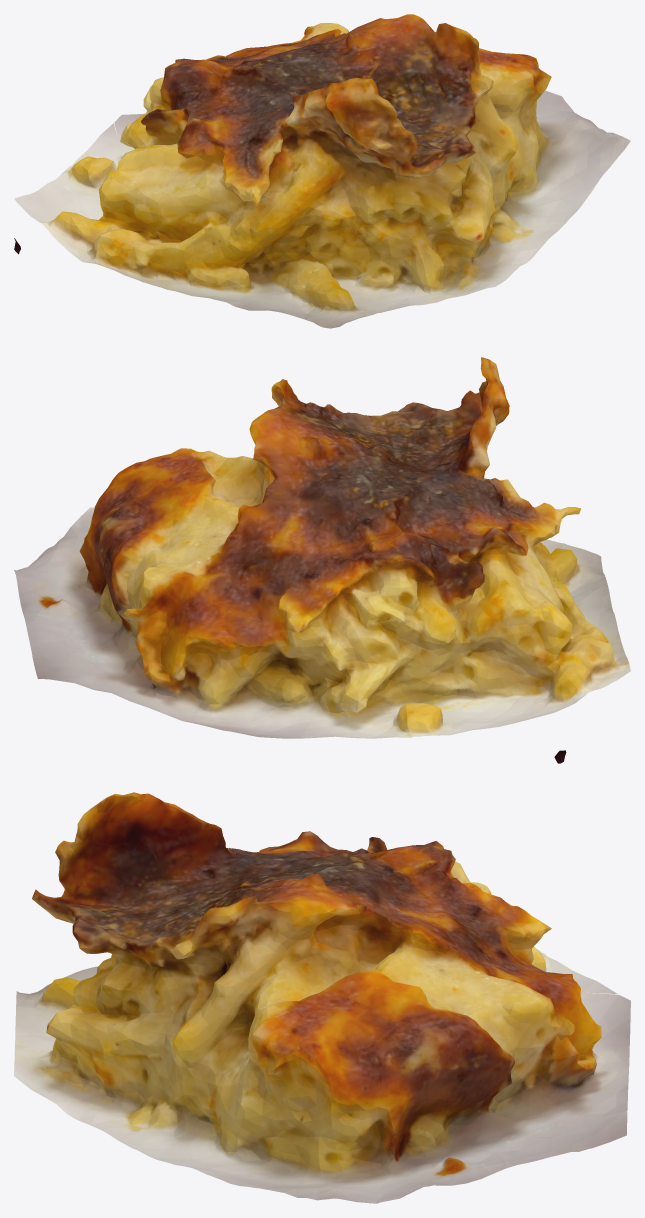
The model's file is firin-makarna.glb.
3 views of the same model, one above another, from view 1: azimuth 30°, elevation 25°; view 2: azimuth 150°, elevation 25°; view 3: azimuth 270°, elevation 25° (orthographic). The views are drawn at different scales.
Visible parts, largest first — view 1: __real_world_scale__; view 2: __real_world_scale__; view 3: __real_world_scale__.
Boxes of the visible parts, x1,y1,x2,y2 form: __real_world_scale__: (14, 14, 630, 328); __real_world_scale__: (14, 357, 630, 763); __real_world_scale__: (14, 792, 630, 1203).
Bounding box in the file's own units: 0.2 × 0.0811 × 0.1709.
1 material, 1 textured.
